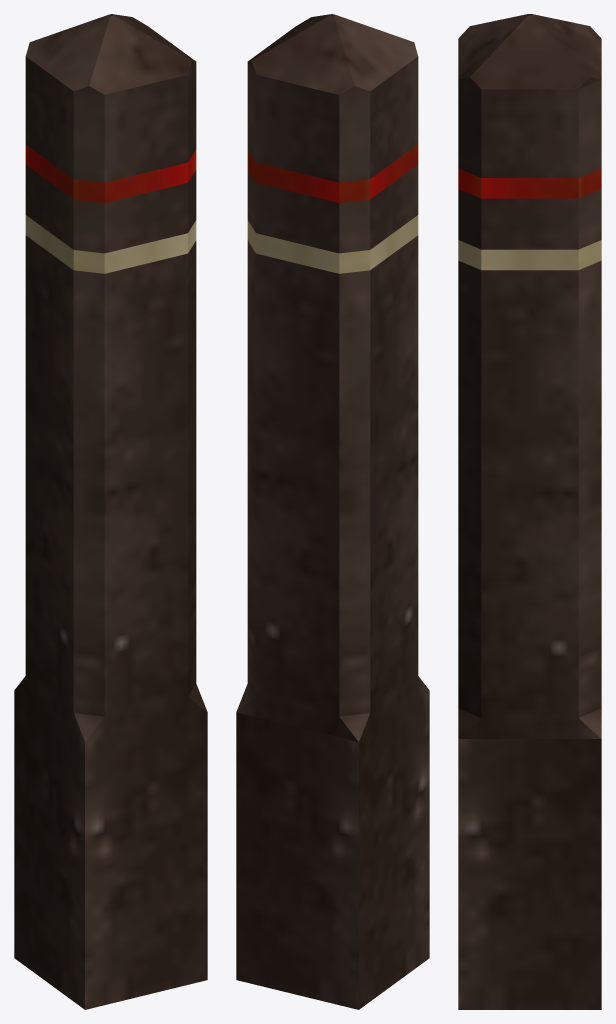
The model's file is square_bollard_reflectors.fbx.
3 views of the same model, side by side, from view 1: azimuth 30°, elevation 25°; view 2: azimuth 150°, elevation 25°; view 3: azimuth 270°, elevation 25° (orthographic).
Visible parts, largest first — view 1: square_bollard_reflectors; view 2: square_bollard_reflectors; view 3: square_bollard_reflectors.
Part boxes in pixels (x1,y1,x2,y2): square_bollard_reflectors: (14, 14, 207, 1009); square_bollard_reflectors: (236, 14, 429, 1009); square_bollard_reflectors: (458, 14, 601, 1009).
Size of the model in its own units: 18.18 by 135 by 18.18.
Materials: 1 (1 with a texture image).
